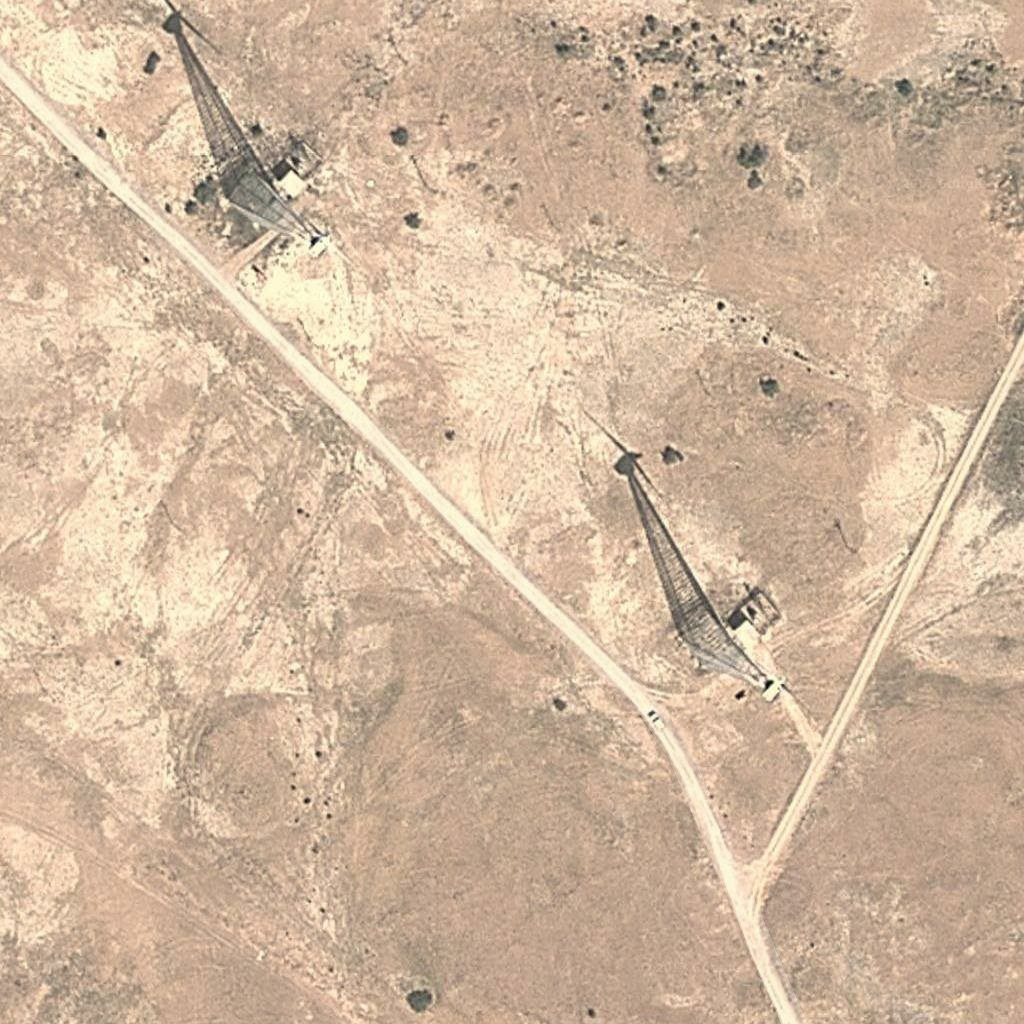Windmill: (579, 416, 759, 681)
